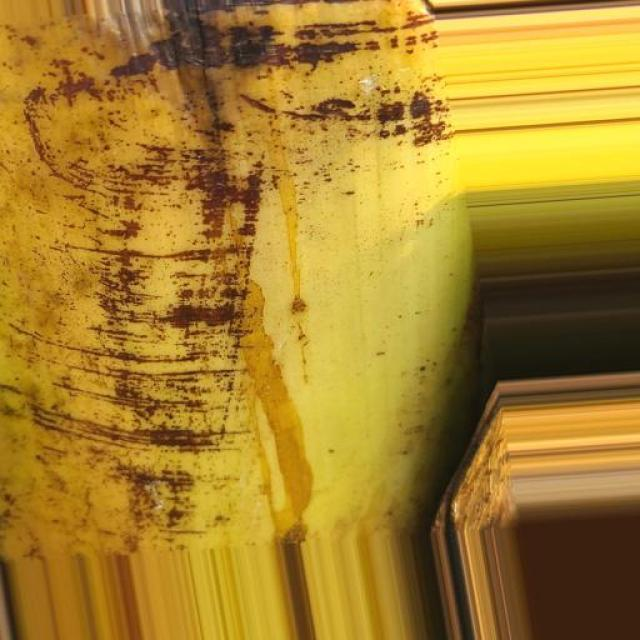Anthracnose: (0, 3, 496, 550)
